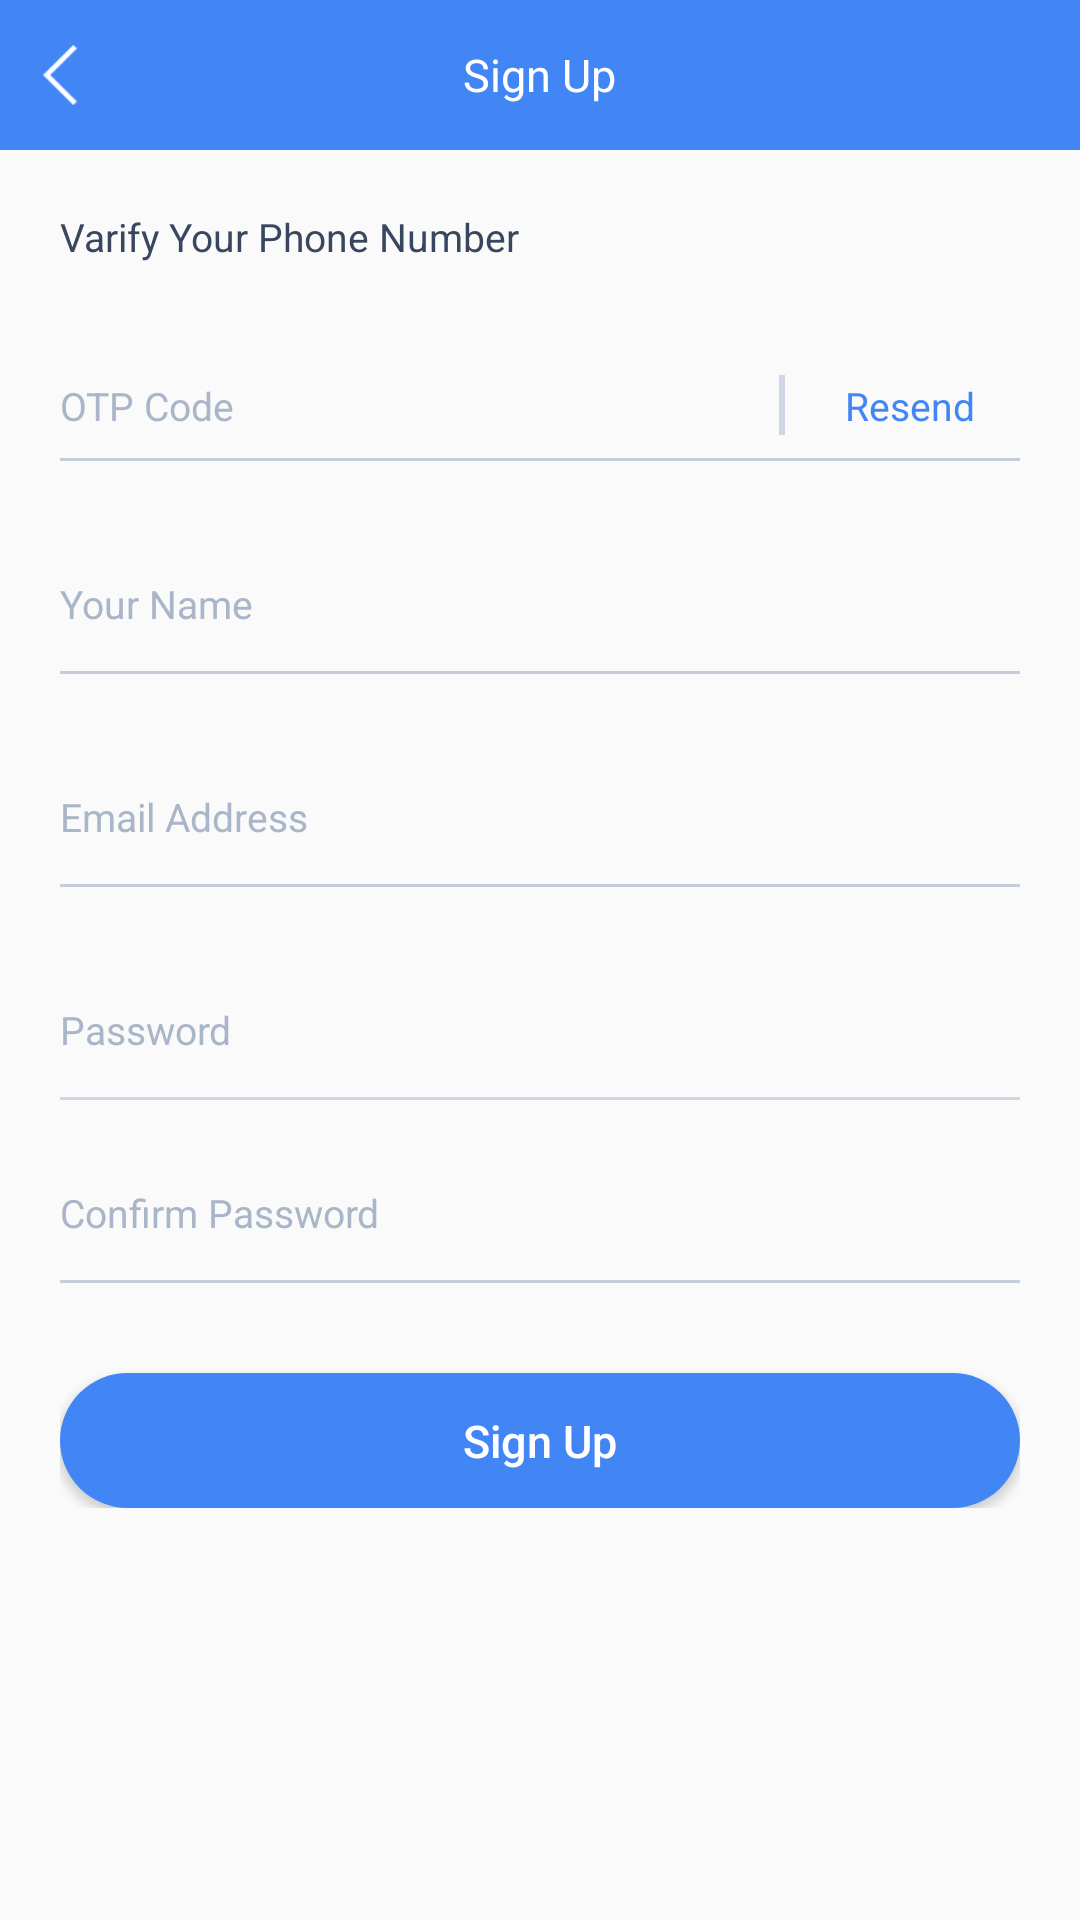

Named icons in this screenshot (1080x1920) and their bounding boxes, (x1, y1, x2, y2):
arrowback: (43, 45, 77, 105)
